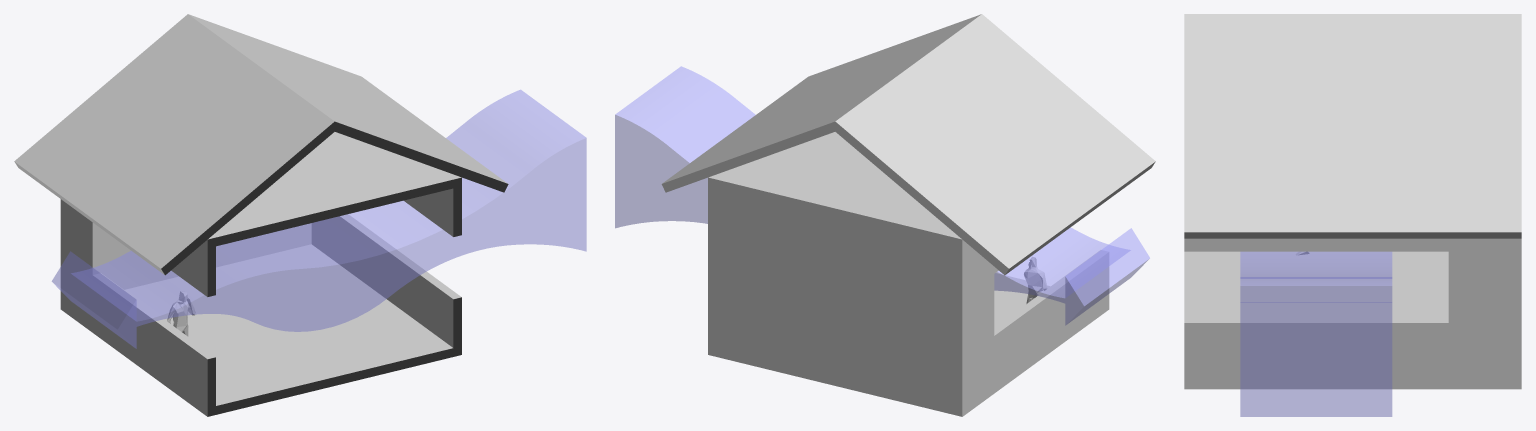
The model's file is ventilacao.glb.
The picture shows the model from 3 angles, left to right: view 1: azimuth 30°, elevation 25°; view 2: azimuth 150°, elevation 25°; view 3: azimuth 270°, elevation 25°; orthographic projection. The views are drawn at different scales.
Parts seen in each view (by area): view 1: object 1, object 2, object 3, Guy05; view 2: object 1, object 2, object 3, Guy05; view 3: object 2, object 1, object 3.
Boxes of the visible parts, x1,y1,x2,y2 form: object 1: (60, 132, 461, 416); object 2: (14, 14, 508, 275); object 3: (52, 89, 586, 348); Guy05: (167, 291, 195, 336); object 1: (708, 132, 1109, 416); object 2: (661, 14, 1155, 275); object 3: (615, 66, 1149, 325); Guy05: (1024, 257, 1047, 303); object 2: (1184, 14, 1521, 238); object 1: (1184, 238, 1521, 389); object 3: (1240, 251, 1392, 416).
Bounding box in the file's own units: 2.21 × 1.19 × 1.2.
